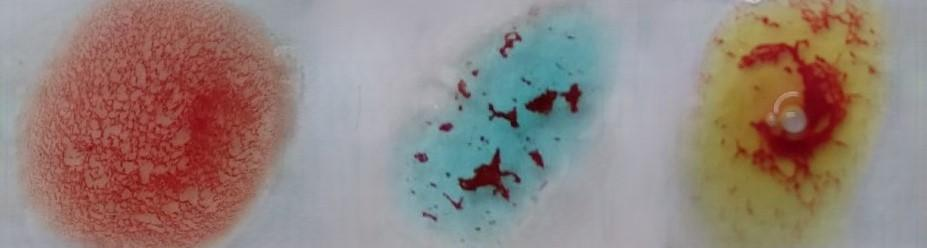A: (406, 17, 596, 238)
B: (705, 3, 890, 247)
D: (28, 3, 276, 248)
